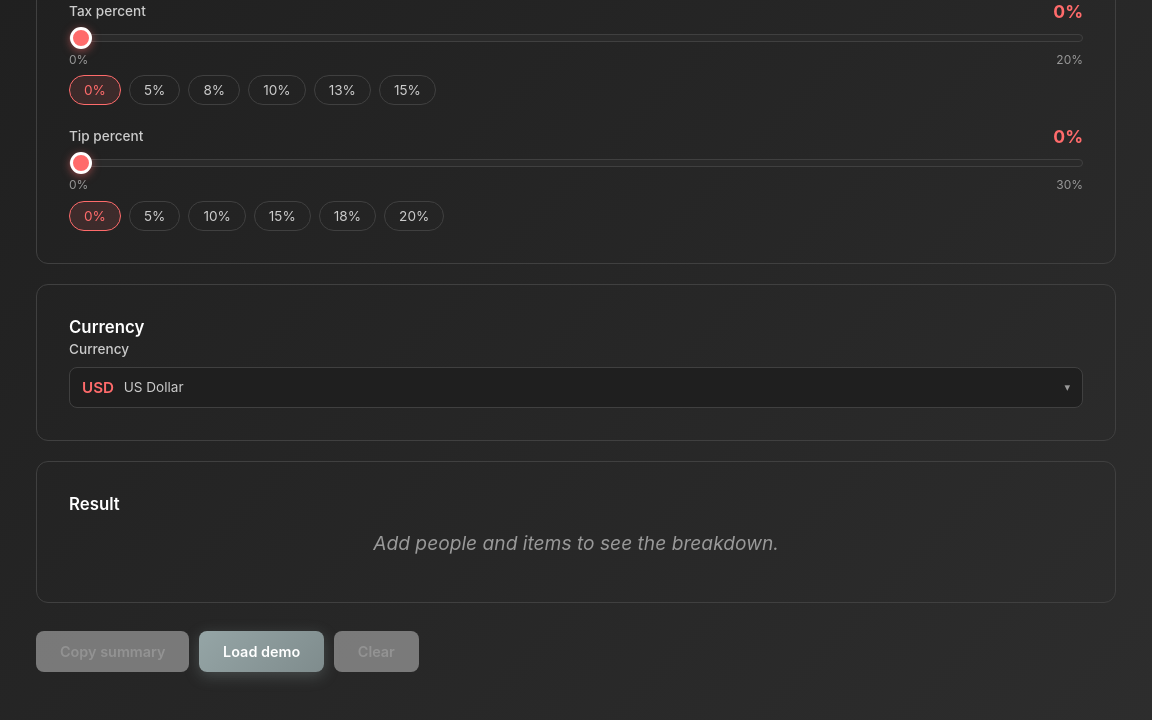
<BillSplitter /> › Clear wipes back to defaults
(page scrolled)
Click the button "Load demo". click: point(262, 652)
box: x1=199 y1=631 x2=324 y2=672
(page scrolled)
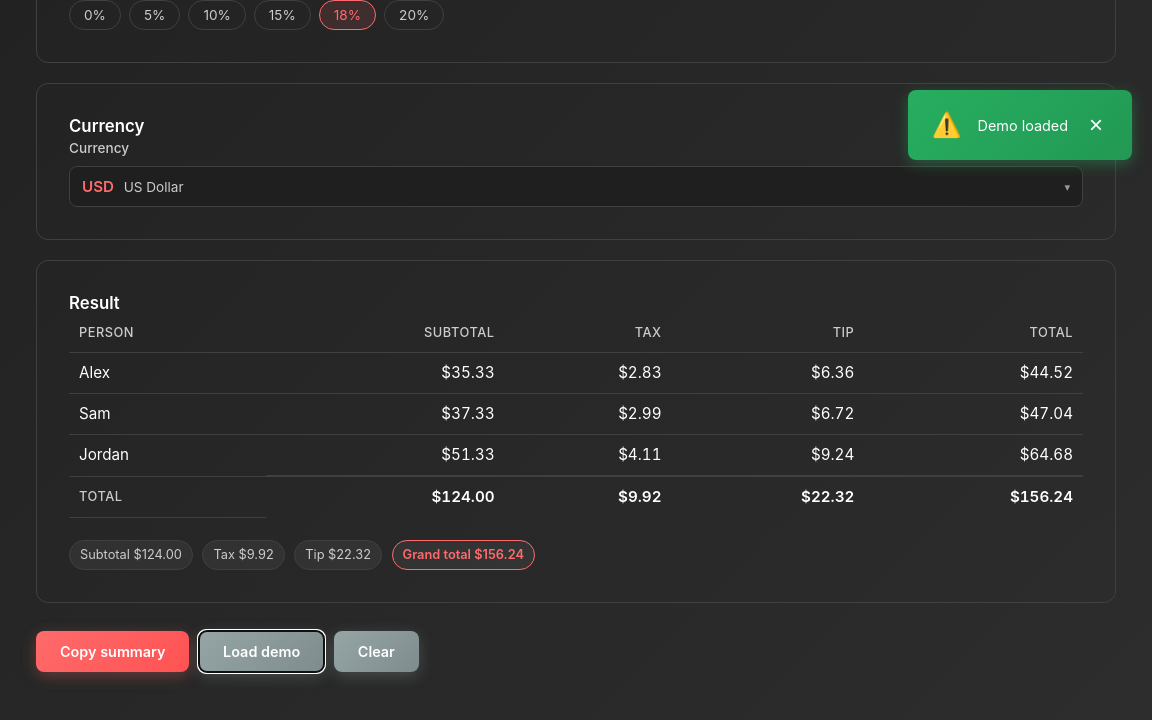
Click the button "Clear". click: point(376, 652)
box: x1=334 y1=631 x2=419 y2=672
(page scrolled)
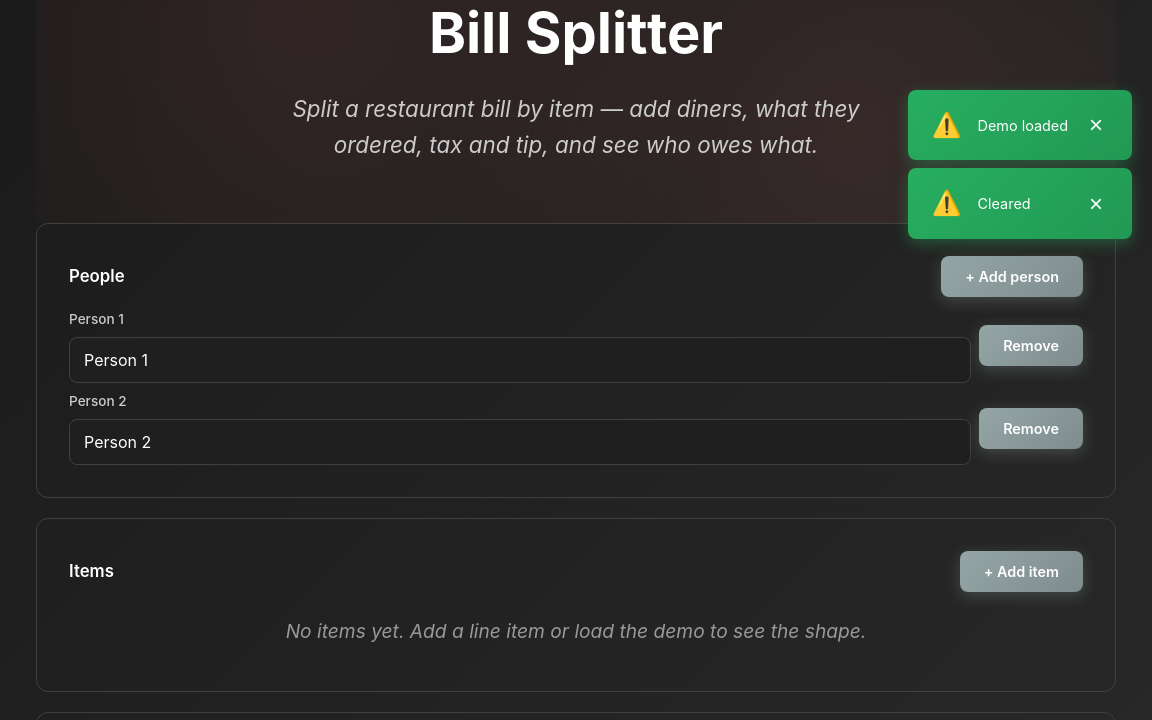
Expected: no cells showing "Alex" are shown
Expected: the field showing "Person 1" is shown, x1=69 y1=337 x2=971 y2=383
